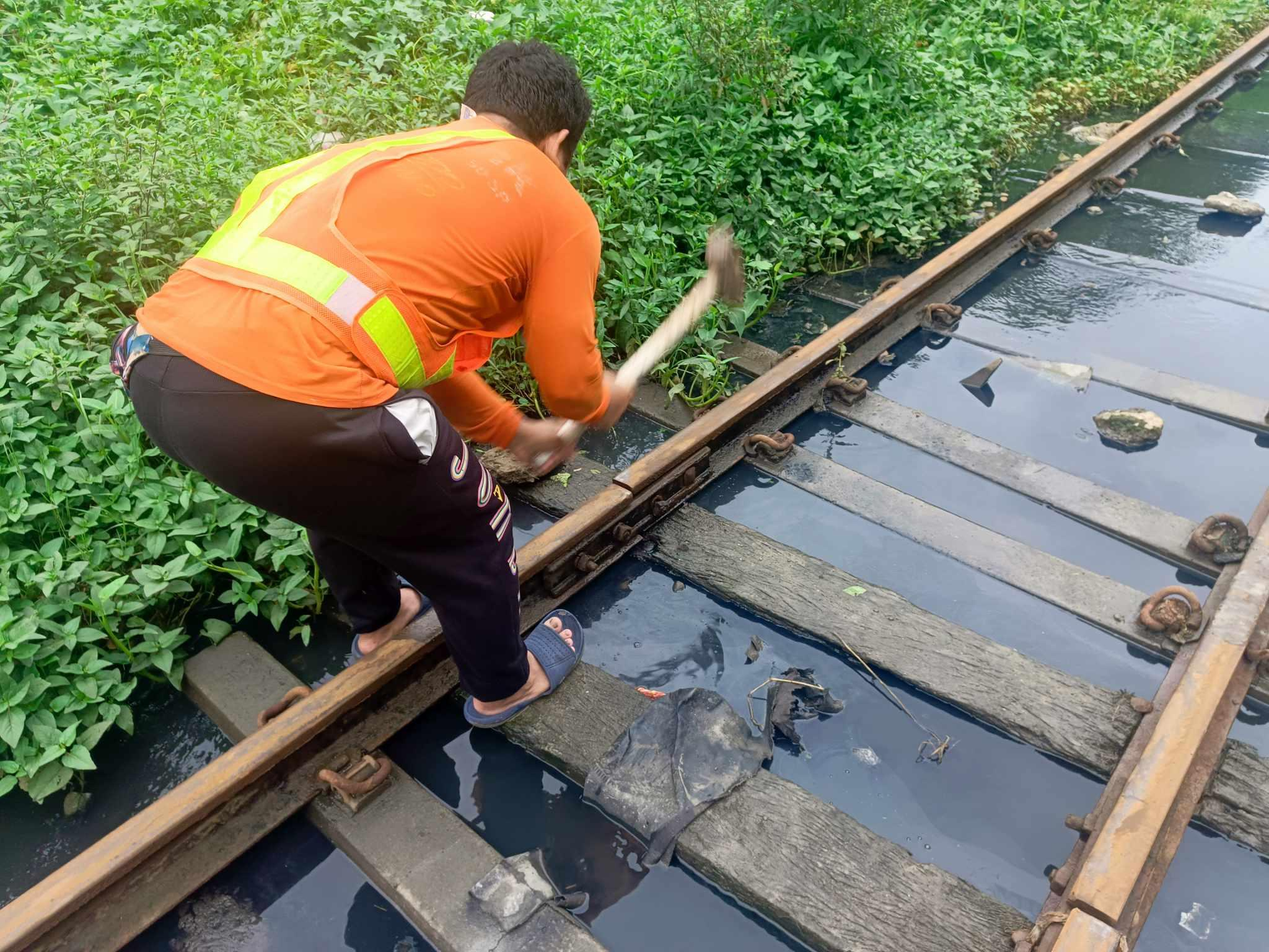railway-gap: (1052, 874, 1128, 949), (591, 451, 660, 519)
